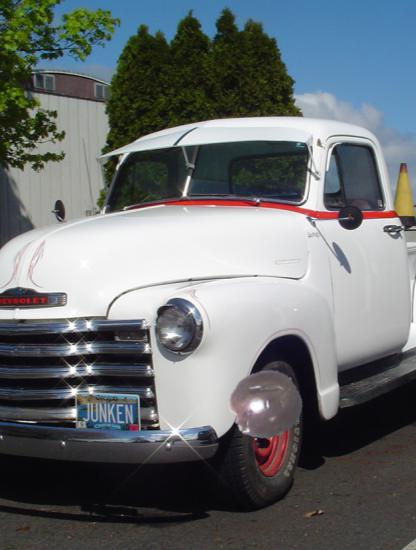Passion: (228, 368, 302, 442)
